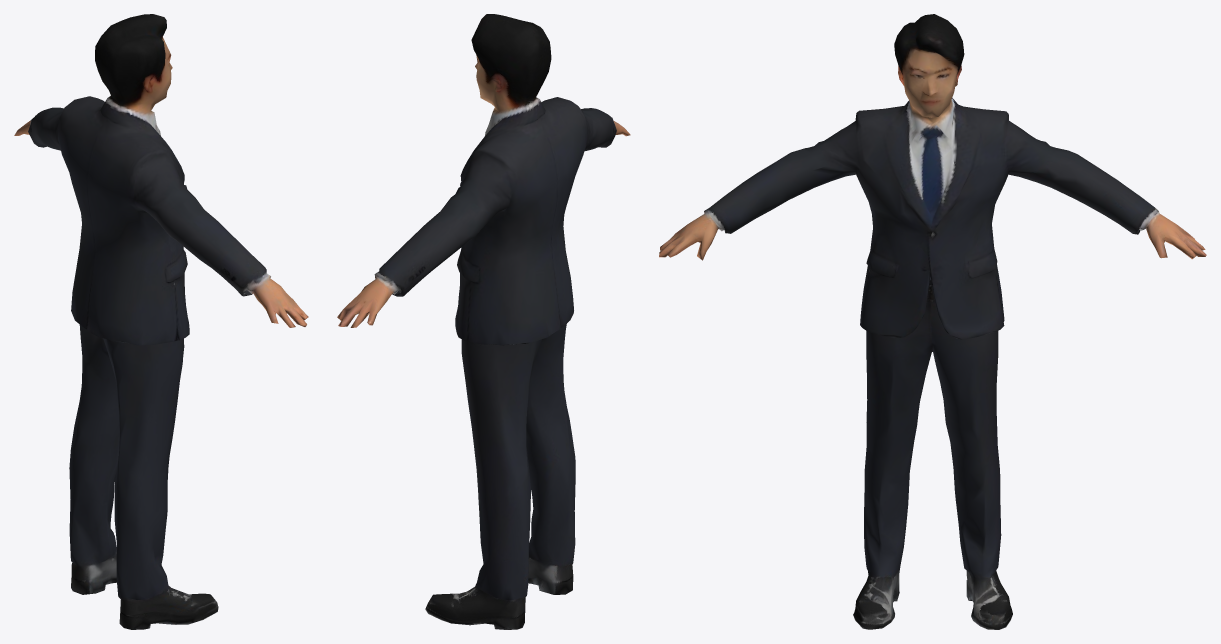
File: human1.glb
The picture shows the model from 3 angles, left to right: view 1: azimuth 30°, elevation 25°; view 2: azimuth 150°, elevation 25°; view 3: azimuth 270°, elevation 25°; orthographic projection.
Visible parts, largest first — view 1: tripo_node_cd336e61-518b-47fc-bda4-543c52a40e8b; view 2: tripo_node_cd336e61-518b-47fc-bda4-543c52a40e8b; view 3: tripo_node_cd336e61-518b-47fc-bda4-543c52a40e8b.
Part boxes in pixels (bbox=[...]): tripo_node_cd336e61-518b-47fc-bda4-543c52a40e8b: bbox=[14, 14, 308, 629]; tripo_node_cd336e61-518b-47fc-bda4-543c52a40e8b: bbox=[337, 14, 630, 629]; tripo_node_cd336e61-518b-47fc-bda4-543c52a40e8b: bbox=[659, 14, 1206, 629].
Size of the model in its own units: 0.184 by 1 by 0.8456.
1 material, 1 textured.
